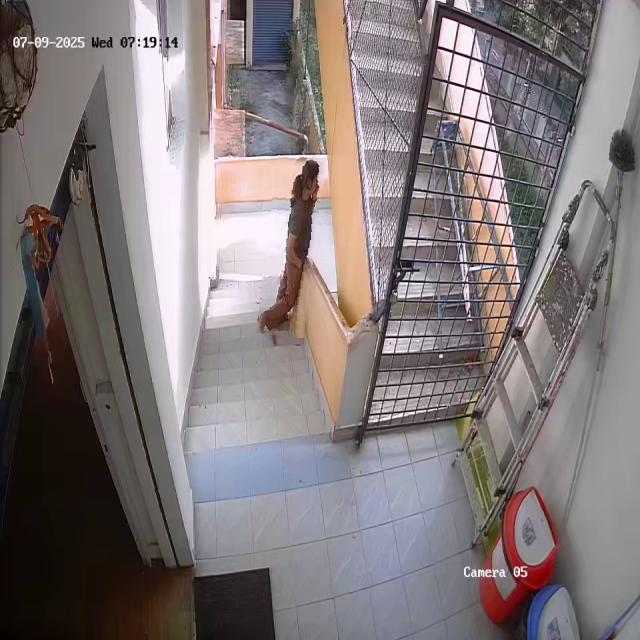person: (262, 156, 320, 337)
